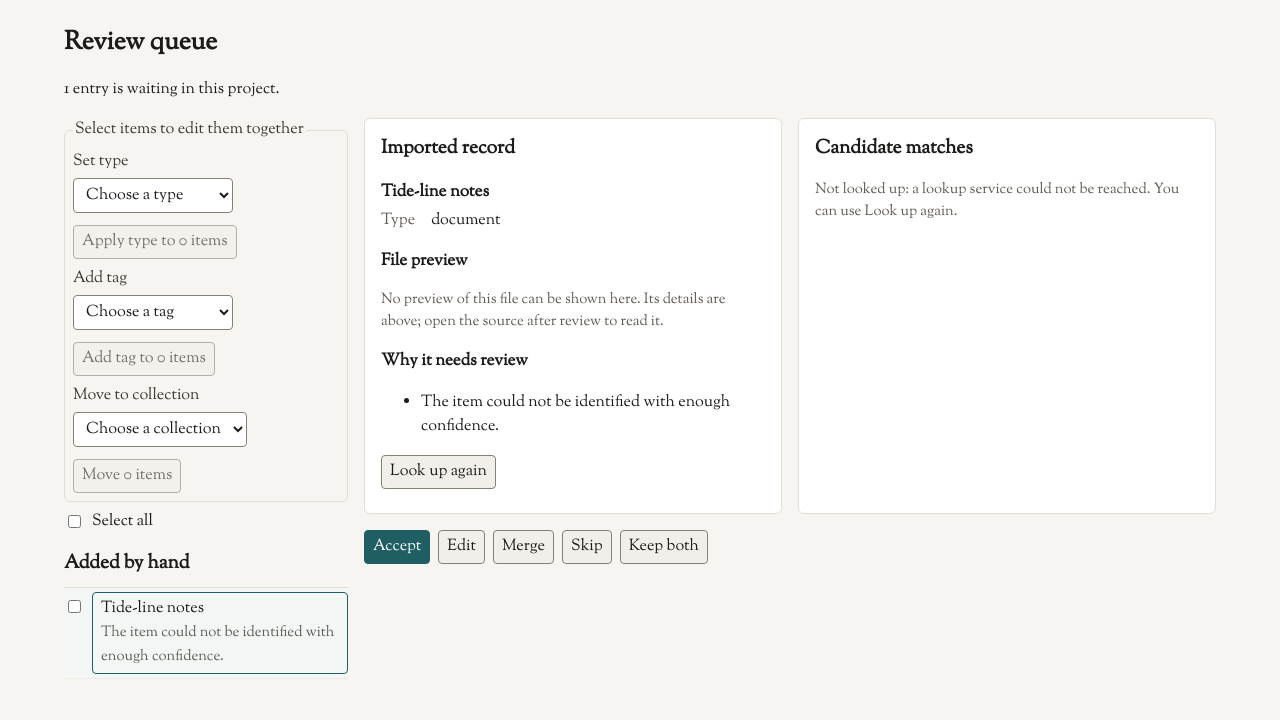
Scenario: the button (R577 i, iii) › busy while it runs: "Looking this up again…", aria-busy, the button off, focus kept; then the entry as answered
Click the button with aria-label "Show Tide-line notes" at [220, 633], box [92,592,348,674]
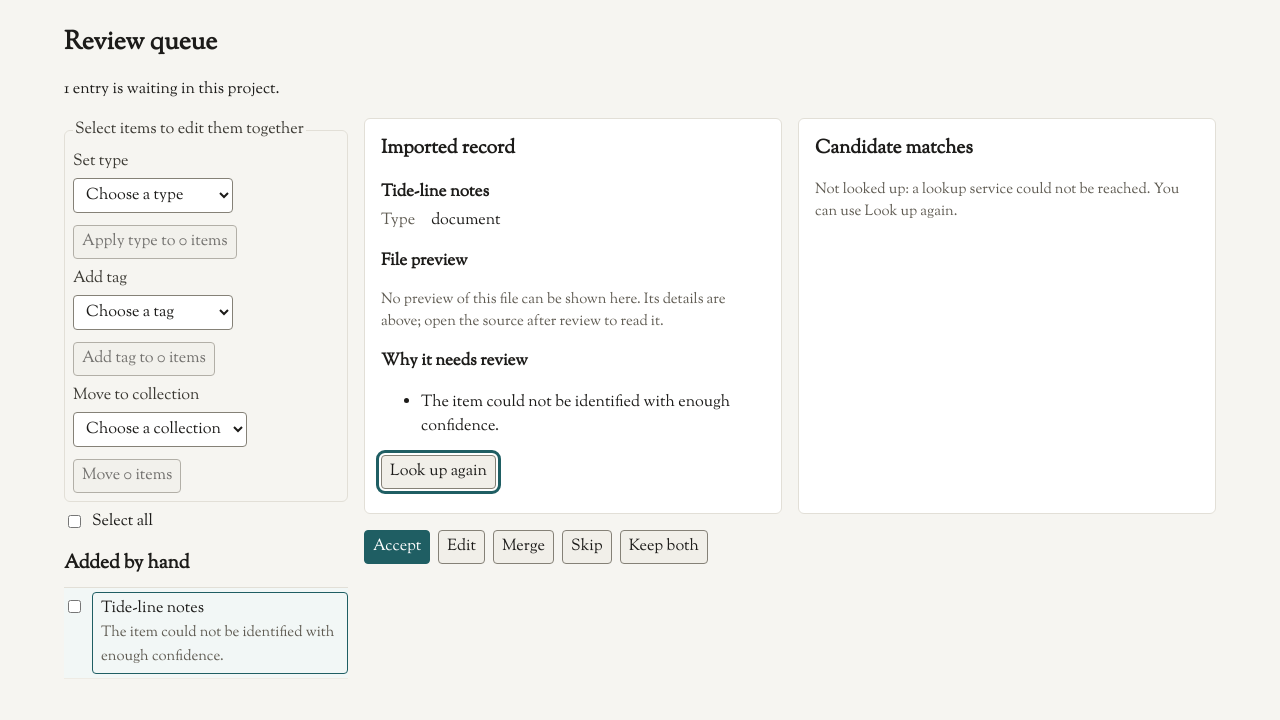
Check: the heading "Tide-line notes" is shown, box [381,180,489,204]
Press Enter
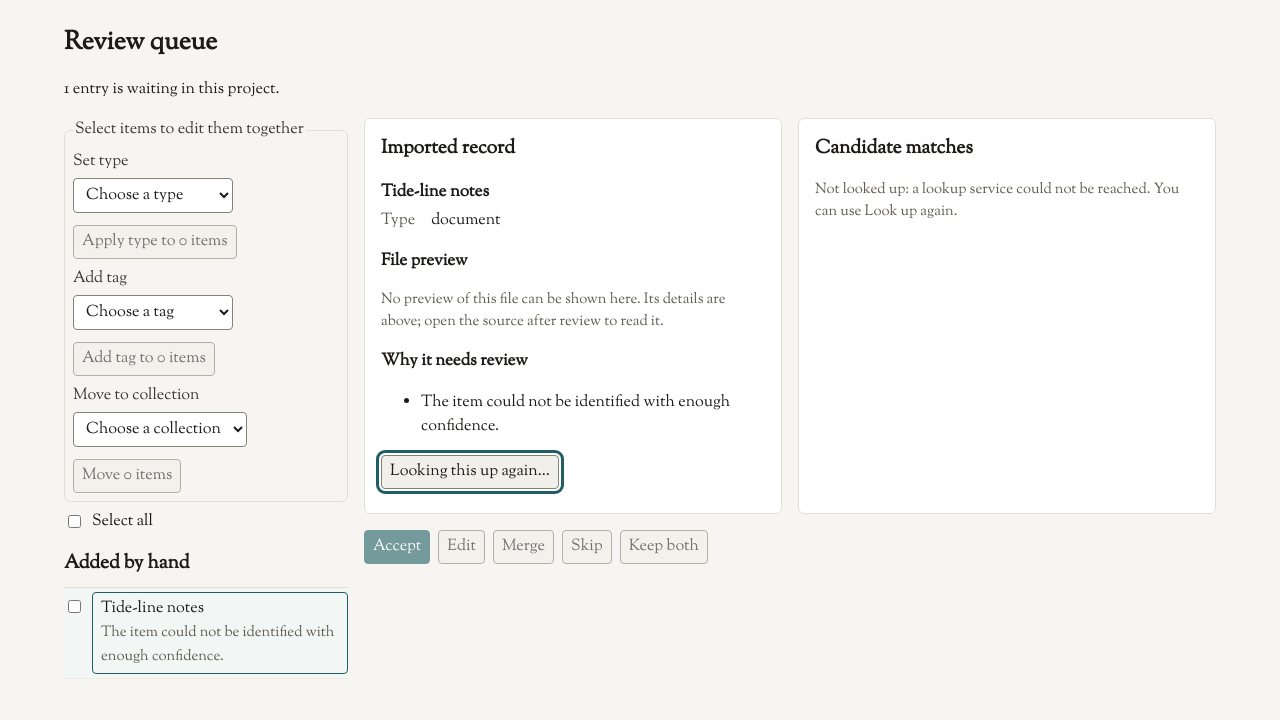
Check: the button "Skip" is disabled, box [562,530,612,564]
Press Enter
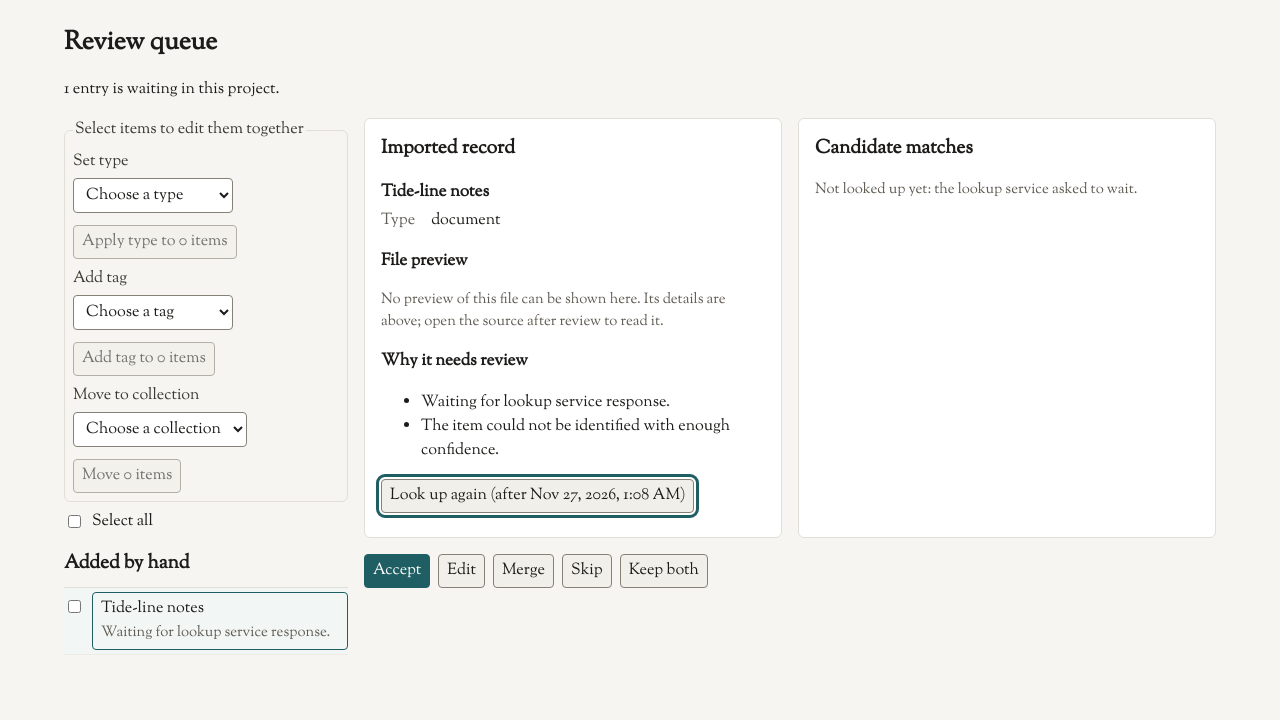
Check: the list items read "Waiting for lookup service response.", "The item could not be identified with enough confidence.", in this order, box [421,391,670,414]; [421,415,765,463]
Check: the text "Not looked up yet: the lookup service asked to wait." is shown, box [815,179,1138,200]
